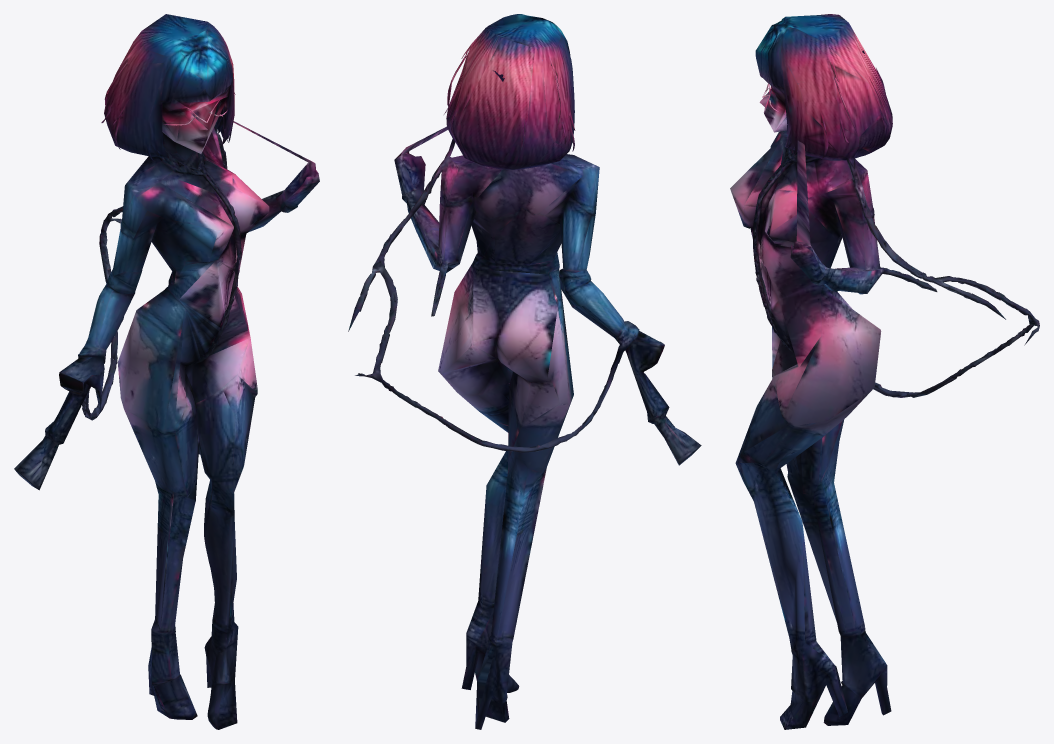
The model's file is girl-39.glb.
The picture shows the model from 3 angles, left to right: view 1: azimuth 30°, elevation 25°; view 2: azimuth 150°, elevation 25°; view 3: azimuth 270°, elevation 25°; orthographic projection. The views are drawn at different scales.
Parts seen in each view (by area): view 1: node_0; view 2: node_0; view 3: node_0.
Part boxes in pixels (x1,y1,x2,y2): node_0: (14,14,319,729); node_0: (348,14,701,729); node_0: (730,14,1039,729).
Size of the model in its own units: 0.5234 by 1.15 by 0.4665.
Materials: 1 (1 with a texture image).
